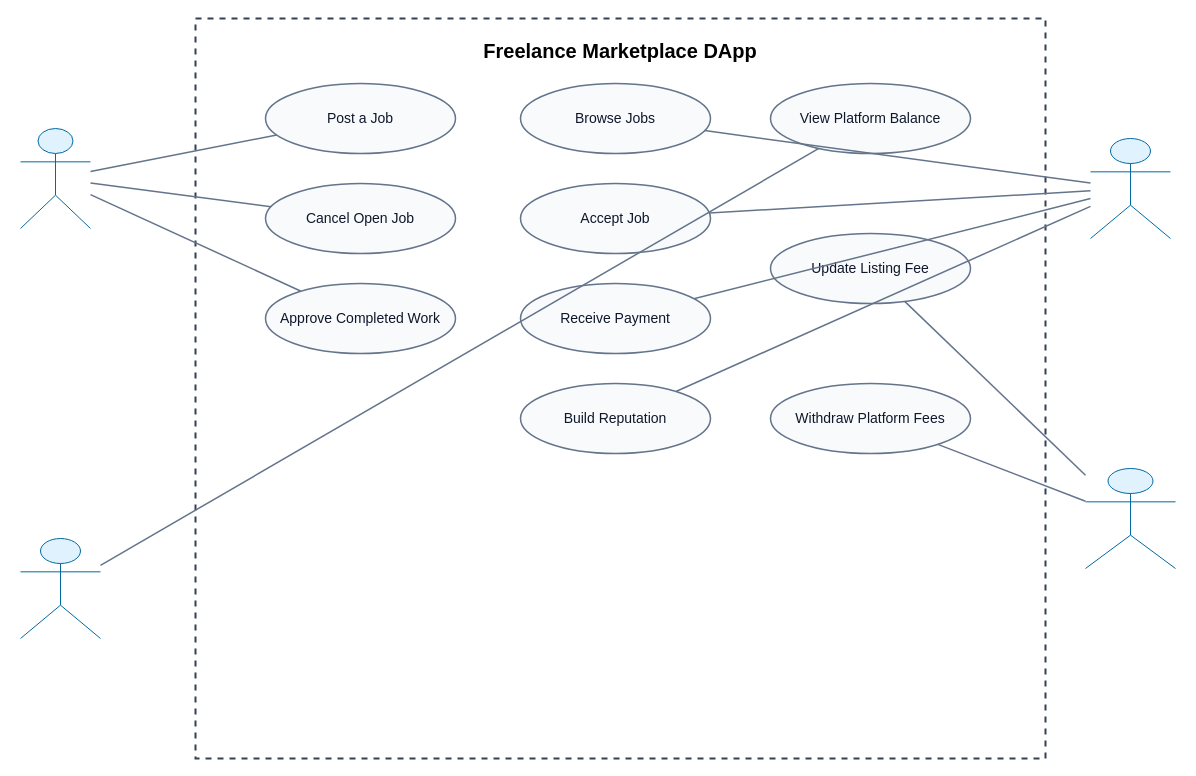
Image size: 1196x776. Some labels were removed from this diagram. The shapes that lost their labels are listed below. From the top down, each one's centre as x and y in pixels, then its label:
pixel 55 178: Client
pixel 1130 188: Freelancer
pixel 1130 518: Platform Owner
pixel 60 588: Public / Guest
